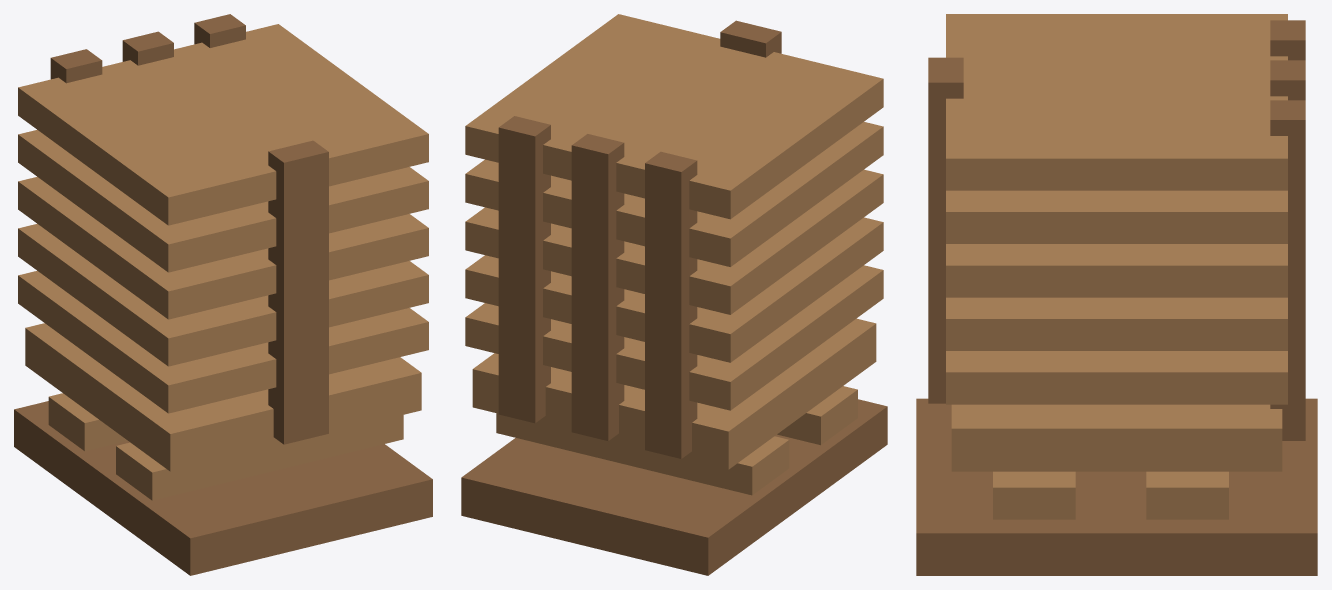
File: sandalias_gladiador.glb
3 renders of one model, left to right at view 1: azimuth 30°, elevation 25°; view 2: azimuth 150°, elevation 25°; view 3: azimuth 270°, elevation 25°, orthographic. The views are drawn at different scales.
Parts seen in each view (by area): view 1: sandalias_gladiador; view 2: sandalias_gladiador; view 3: sandalias_gladiador.
Part boxes in pixels (<box>): sandalias_gladiador: <box>14,14,432,575</box>; sandalias_gladiador: <box>461,14,887,575</box>; sandalias_gladiador: <box>916,14,1317,575</box>.
Bounding box in the file's own units: 0.29 × 0.41 × 0.34.
